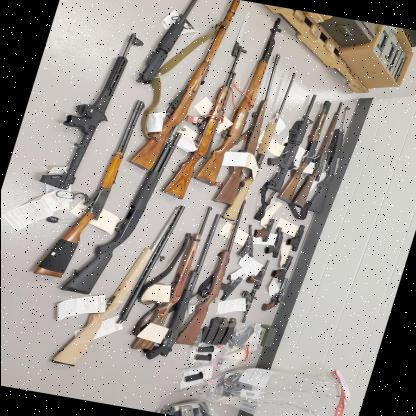rifle: (51, 186, 191, 380), (22, 92, 148, 284), (189, 18, 283, 192), (258, 92, 322, 198)
